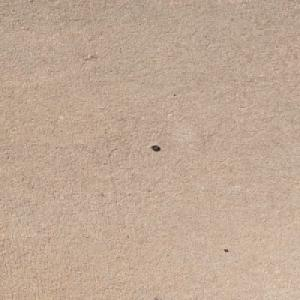Nut: (150, 144, 159, 149)
